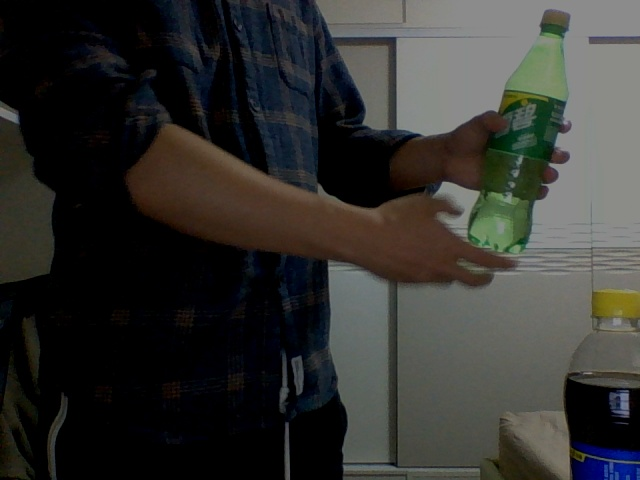Cola: (565, 288, 639, 480)
Sprite: (466, 9, 573, 253)
